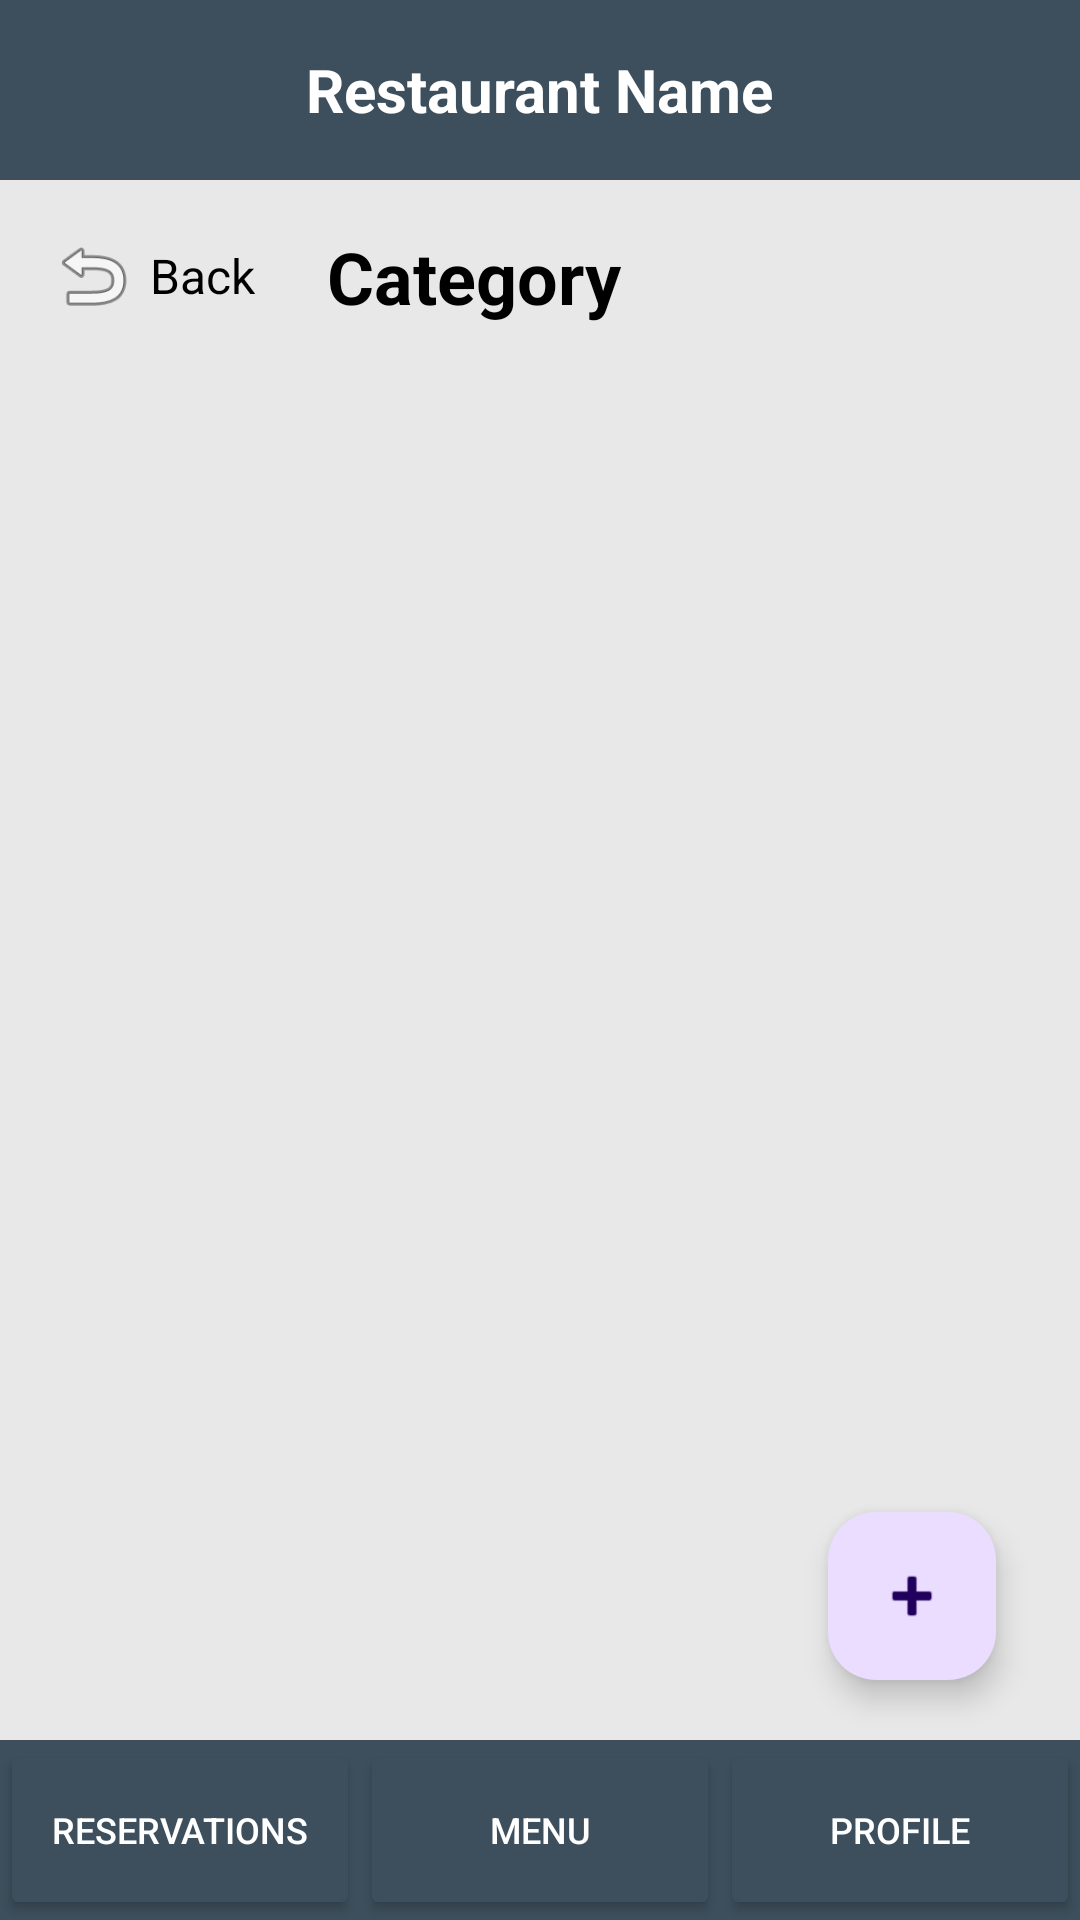

Screen size 1080x1920. Icon name, then its box in pixels as (x1, y1, x2, y2):
add: (828, 1512, 996, 1680)
